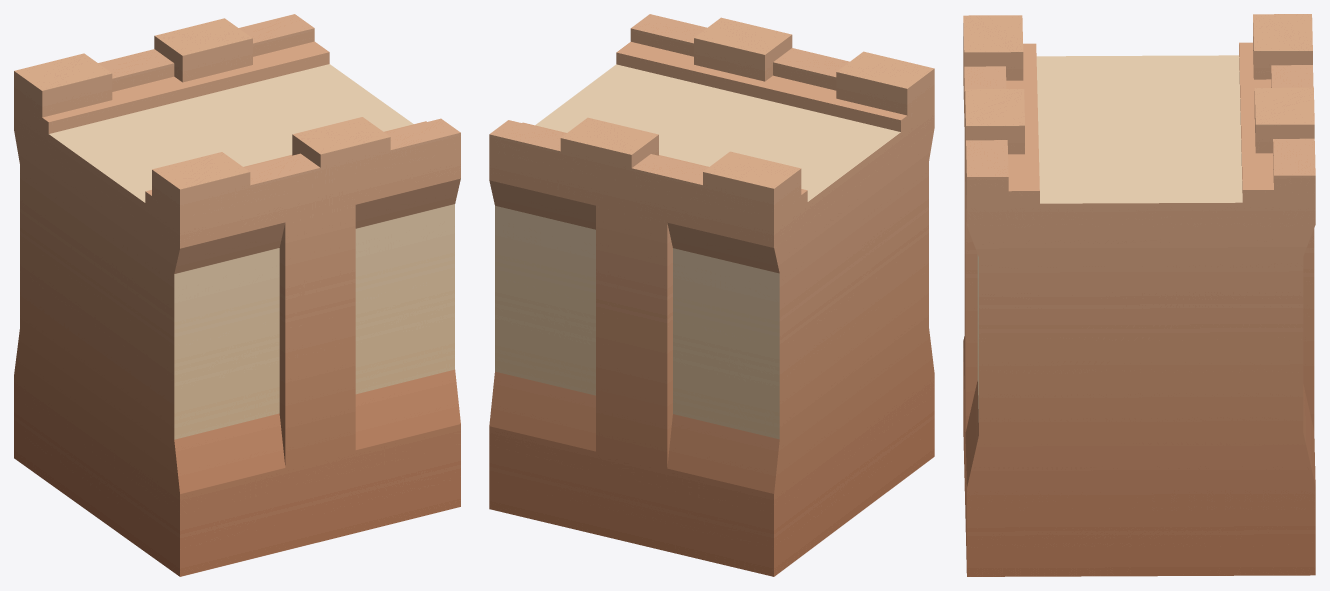
The model's file is wall-pillar.052_lev3.glb.
The picture shows the model from 3 angles, left to right: view 1: azimuth 30°, elevation 25°; view 2: azimuth 150°, elevation 25°; view 3: azimuth 270°, elevation 25°; orthographic projection. The views are drawn at different scales.
Visible parts, largest first — view 1: wall-pillar.052_lev3; view 2: wall-pillar.052_lev3; view 3: wall-pillar.052_lev3.
Part boxes in pixels (box(x1,y1,x2,y2)): wall-pillar.052_lev3: box(14, 14, 460, 576); wall-pillar.052_lev3: box(489, 14, 934, 576); wall-pillar.052_lev3: box(963, 14, 1315, 576).
Bounding box in the file's own units: 6 × 7.78 × 6.
1 material, 1 textured.
